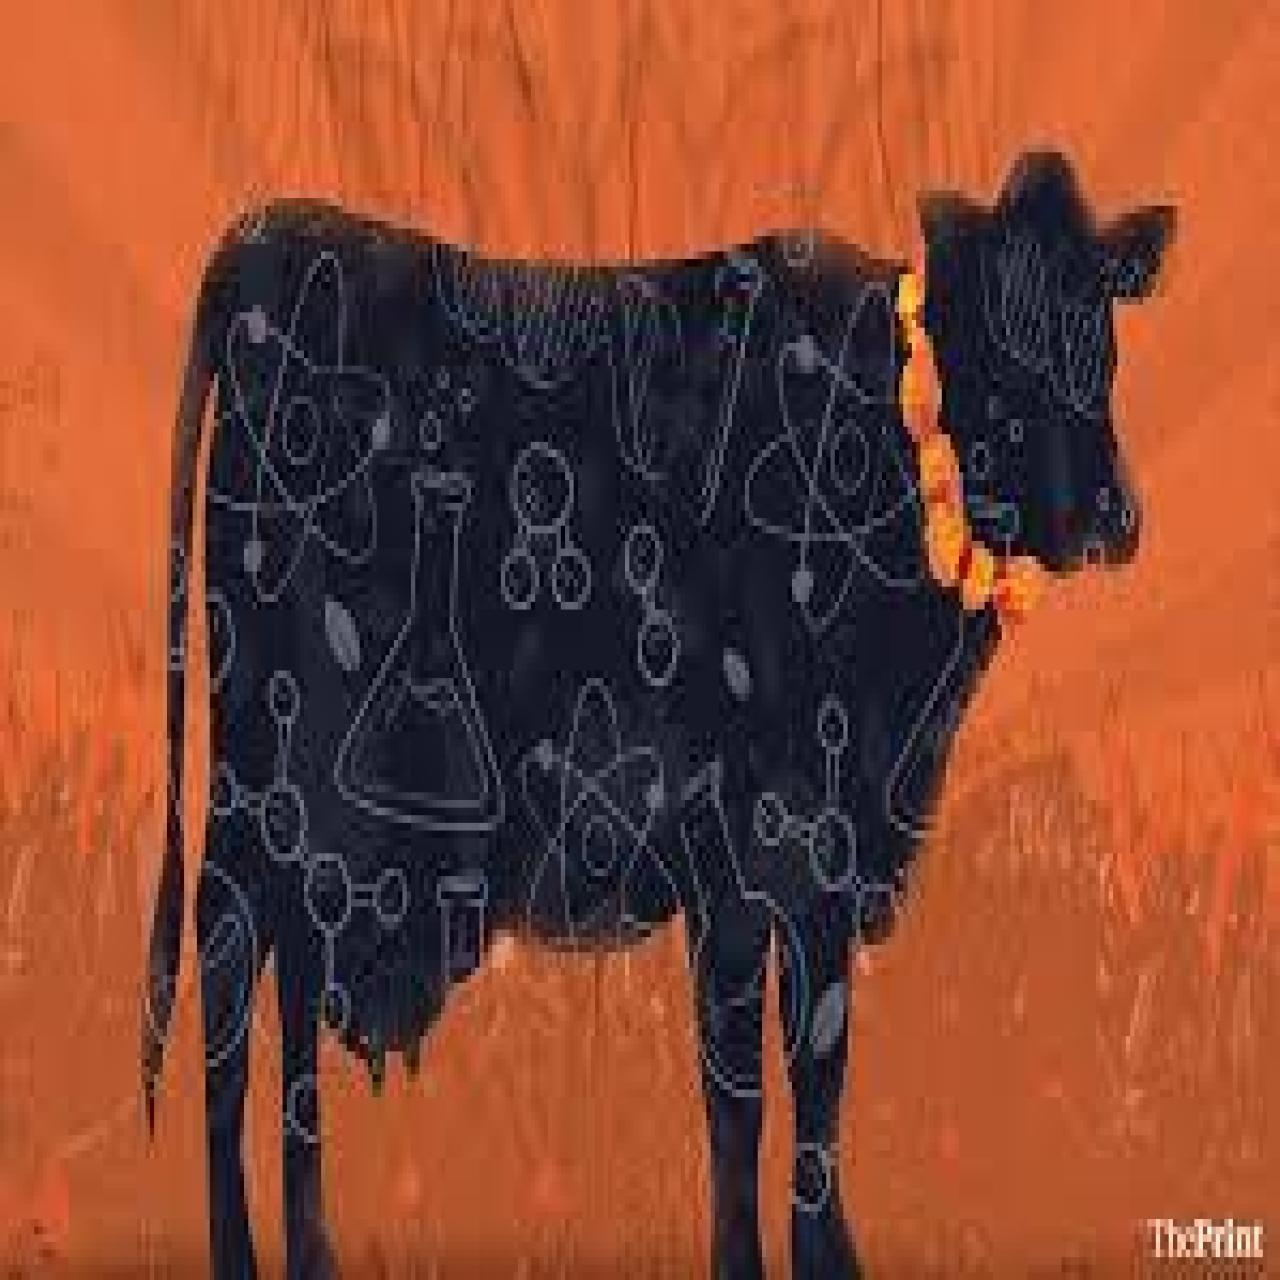cow: (142, 152, 1178, 1280)
